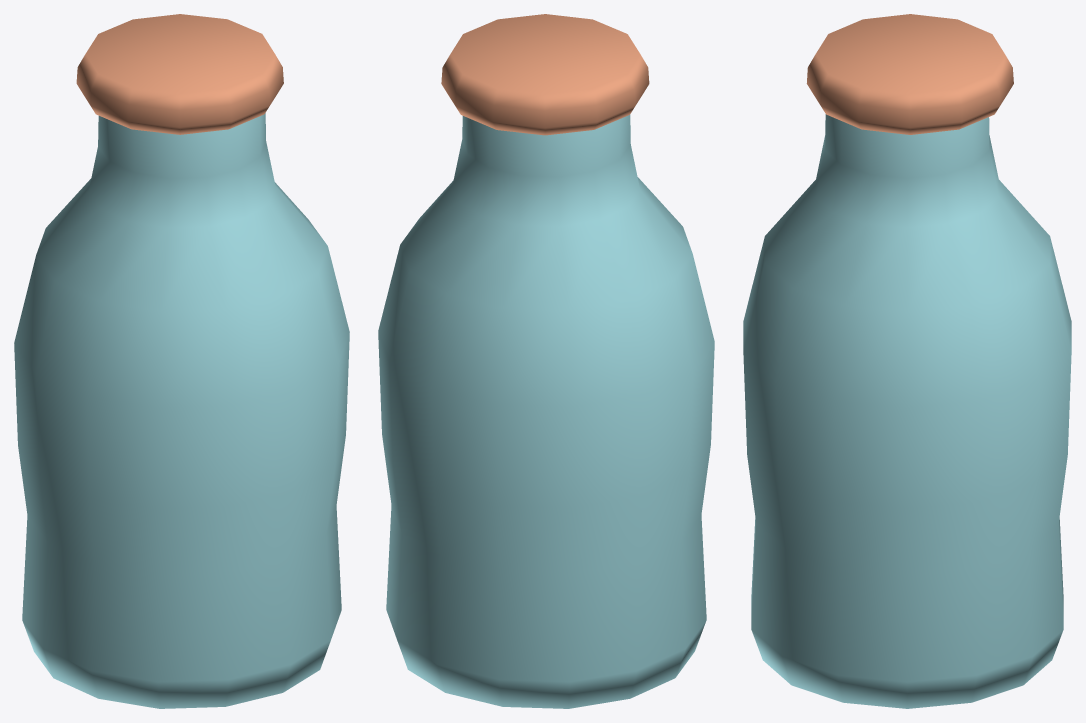
File: FruitJuice.fbx
3 views of the same model, side by side, from view 1: azimuth 30°, elevation 25°; view 2: azimuth 150°, elevation 25°; view 3: azimuth 270°, elevation 25° (orthographic).
Visible parts, largest first — view 1: Pesca:SuccoDiFrutta:polySurface14; view 2: Pesca:SuccoDiFrutta:polySurface14; view 3: Pesca:SuccoDiFrutta:polySurface14.
Part boxes in pixels (x1,y1,x2,y2): Pesca:SuccoDiFrutta:polySurface14: (14,14,349,708); Pesca:SuccoDiFrutta:polySurface14: (378,14,714,708); Pesca:SuccoDiFrutta:polySurface14: (743,14,1071,708).
Bounding box in the file's own units: 11.64 × 22.59 × 11.35.
